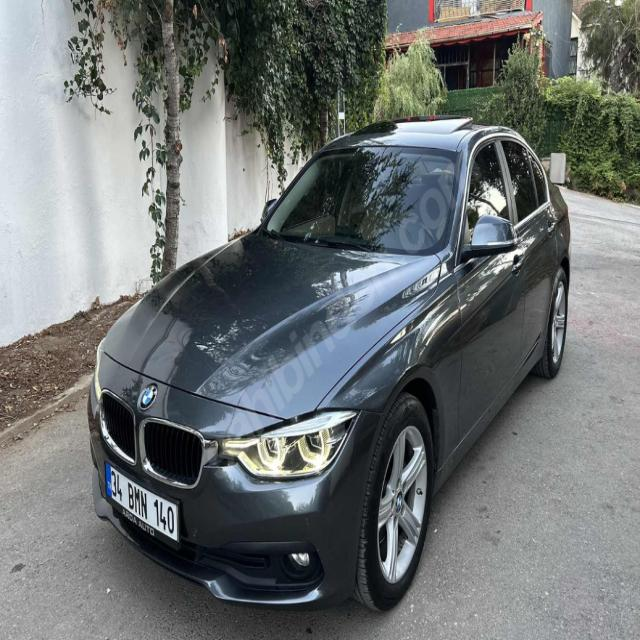bmw: (137, 379, 159, 412)
